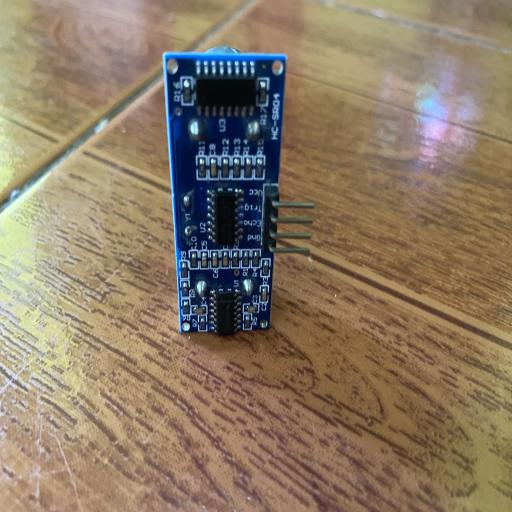Ultrasonic Sensor: (161, 45, 314, 336)
